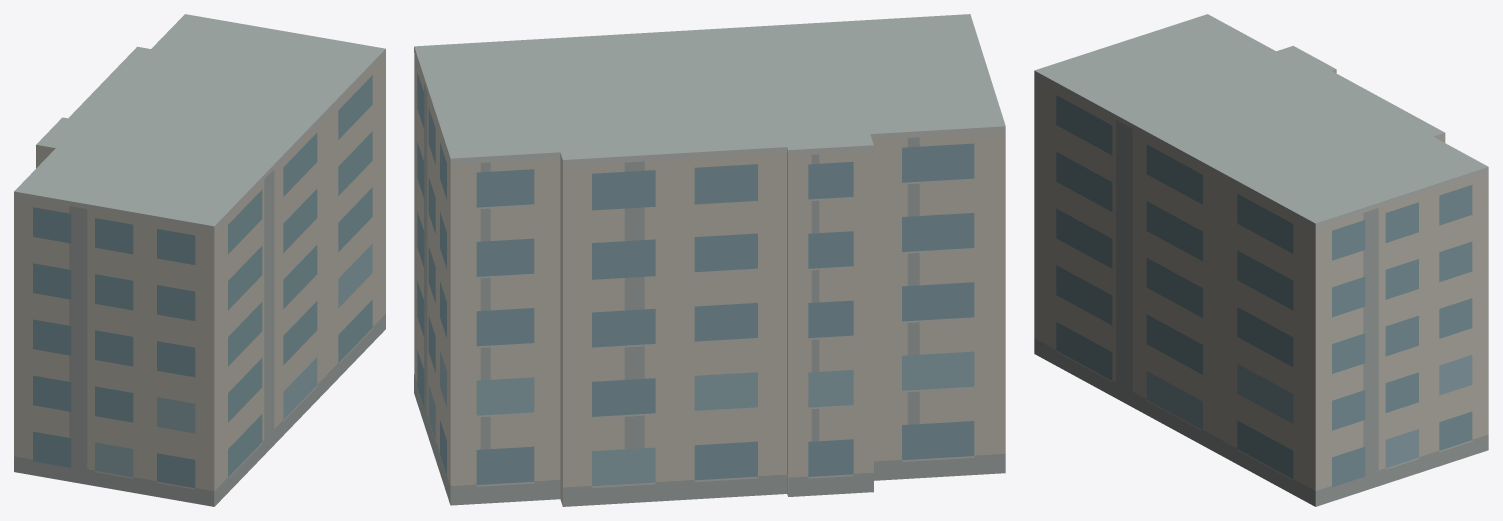
File: survey-upis-32630618.glb
The picture shows the model from 3 angles, left to right: view 1: azimuth 30°, elevation 25°; view 2: azimuth 150°, elevation 25°; view 3: azimuth 270°, elevation 25°; orthographic projection. The views are drawn at different scales.
Parts seen in each view (by area): view 1: survey-upis-32630618.tmp; view 2: survey-upis-32630618.tmp; view 3: survey-upis-32630618.tmp.
Boxes of the visible parts, bbox=[...] form: survey-upis-32630618.tmp: bbox=[14, 14, 385, 506]; survey-upis-32630618.tmp: bbox=[414, 14, 1005, 506]; survey-upis-32630618.tmp: bbox=[1034, 14, 1488, 506].
Bounding box in the file's own units: 22.05 × 13.9 × 20.21.
